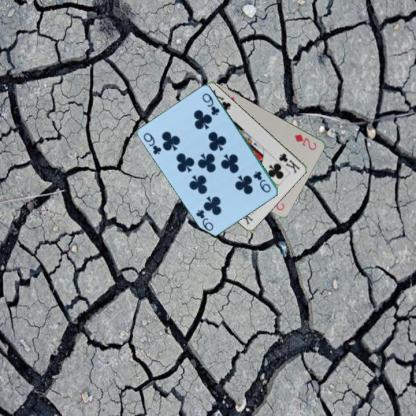2d: (292, 132, 318, 151)
9c: (141, 130, 163, 156), (251, 169, 272, 194)
Kc: (276, 150, 302, 175)
